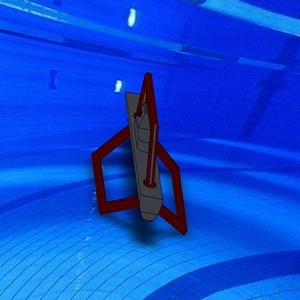submarine: (84, 72, 200, 237)
